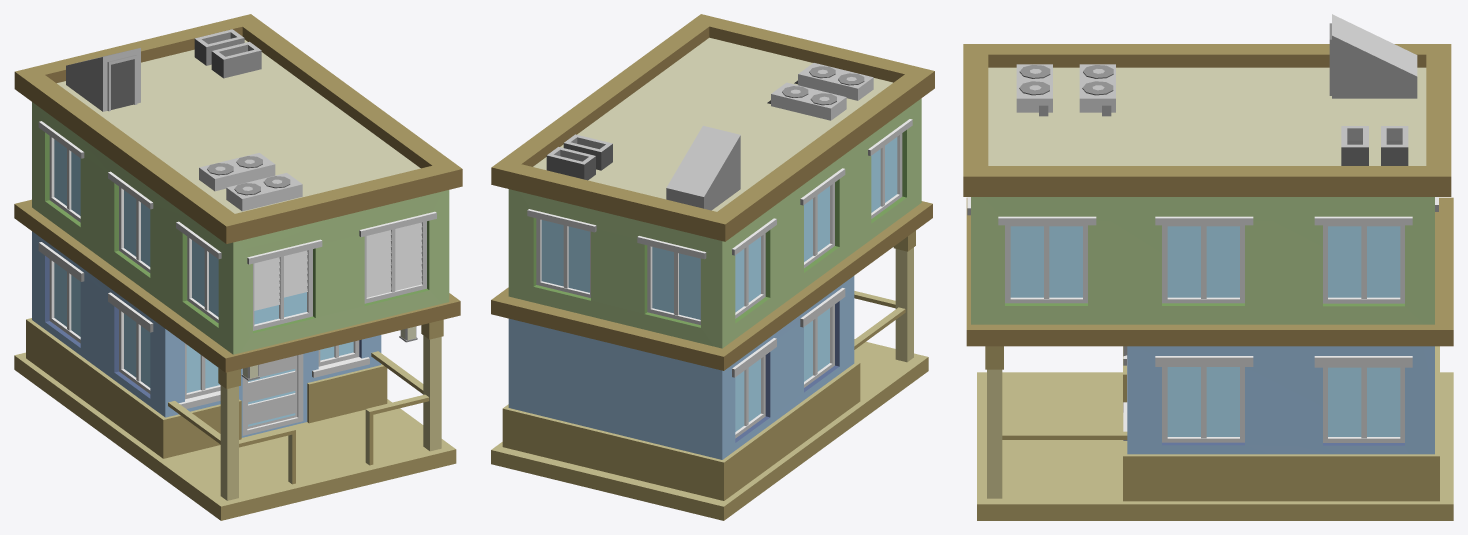
Rendered from house_small_1_002.fbx.
The picture shows the model from 3 angles, left to right: view 1: azimuth 30°, elevation 25°; view 2: azimuth 150°, elevation 25°; view 3: azimuth 270°, elevation 25°; orthographic projection. The views are drawn at different scales.
Parts seen in each view (by area): view 1: house_small_1_002; view 2: house_small_1_002; view 3: house_small_1_002.
Boxes of the visible parts, <box> form: house_small_1_002: <box>14,14,462,520</box>; house_small_1_002: <box>491,14,934,520</box>; house_small_1_002: <box>963,14,1453,520</box>.
Bounding box in the file's own units: 492 × 682 × 767.
